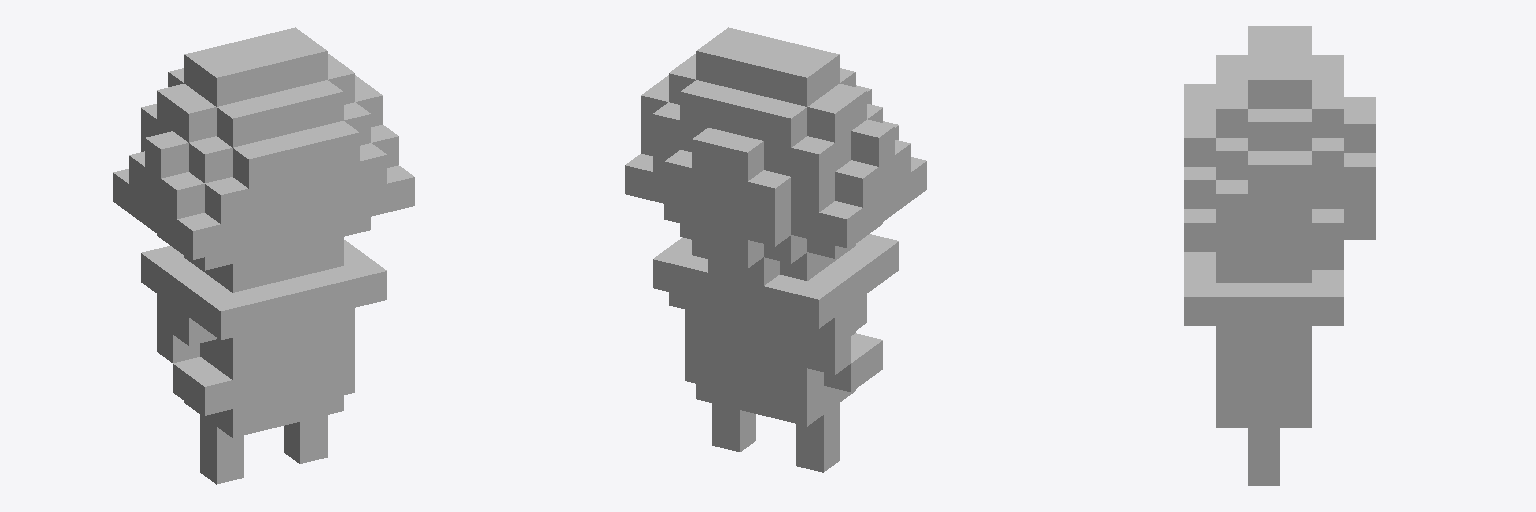
The model's file is Para_BadGuy_Guy.obj.
3 views of the same model, side by side, from view 1: azimuth 30°, elevation 25°; view 2: azimuth 150°, elevation 25°; view 3: azimuth 270°, elevation 25° (orthographic).
Parts seen in each view (by area): view 1: Para_BadGuy_Guy; view 2: Para_BadGuy_Guy; view 3: Para_BadGuy_Guy.
Part boxes in pixels (x1,y1,x2,y2): Para_BadGuy_Guy: (113, 27, 414, 484); Para_BadGuy_Guy: (625, 27, 926, 472); Para_BadGuy_Guy: (1184, 26, 1375, 485).
Size of the model in its own units: 8 by 14 by 6.